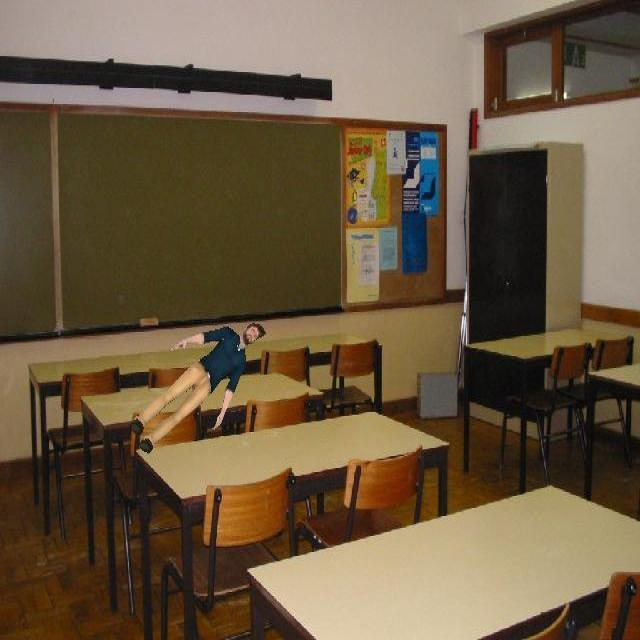obstacle: (129, 315, 267, 453)
